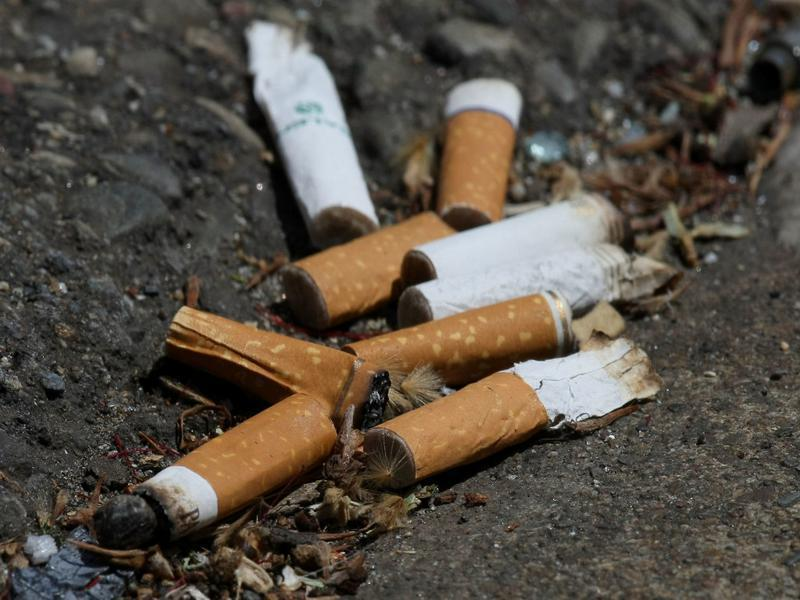burned_cigarette: (362, 318, 662, 489), (88, 388, 340, 548), (237, 17, 384, 244), (160, 295, 392, 429), (345, 290, 580, 389), (421, 50, 545, 230), (279, 204, 458, 328), (399, 194, 620, 284)
